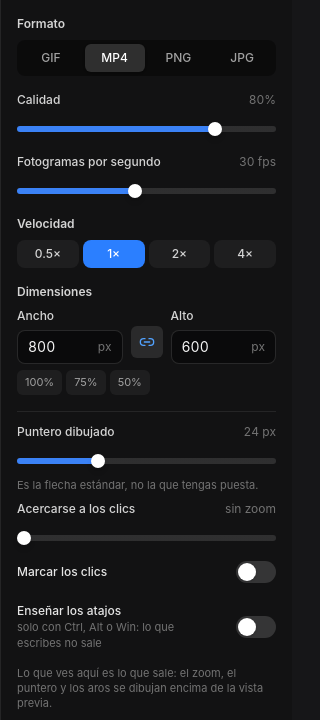
JPG, la captura que se puede mandar por correo › y no lleva fotogramas por segundo, que una foto no tiene
This screenshot has width=320, height=720.
Click the button "JPG": (242, 58) [212, 44, 272, 72]
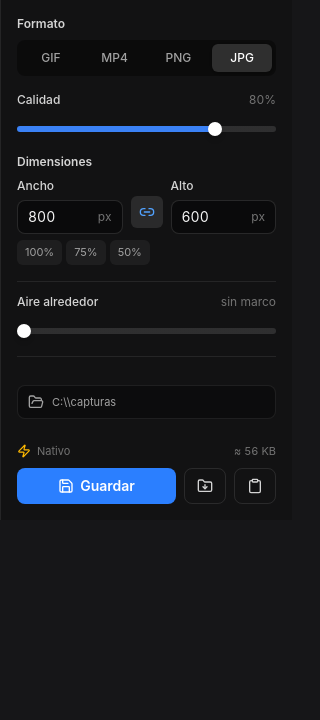
Result: the text "Fotogramas por segundo" is gone
